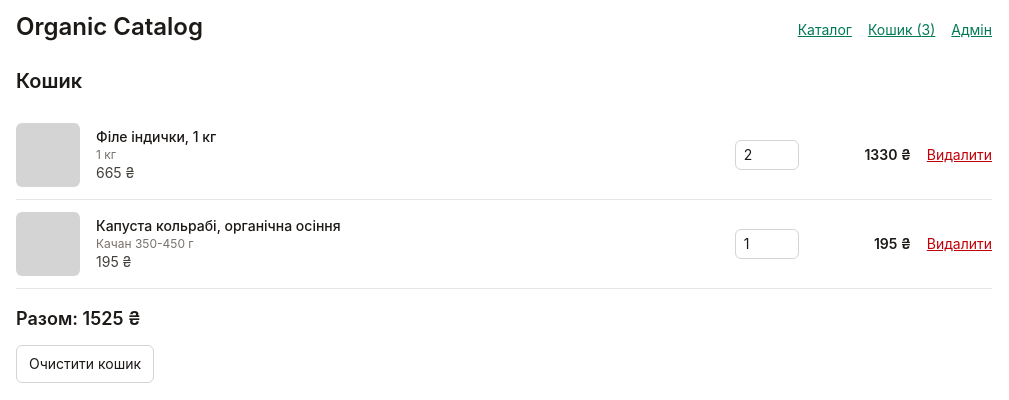
it: BasketPage › Changing the quantity updates the line
Replace the text in the number field named "Кількість" in the row of "Філе індички, 1 кг" with "3" at [767, 155], box [735,140,799,170]
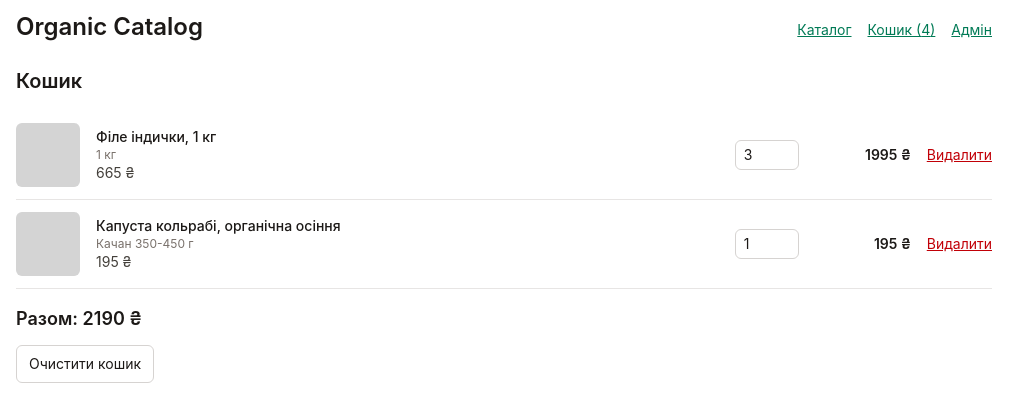
Now the text "Разом: 2190 ₴" is shown, box [16,308,142,329]
Now the text "1995 ₴" is shown, box [865,146,911,163]
Now the link "Кошик (4)" is shown, box [868,20,935,40]
